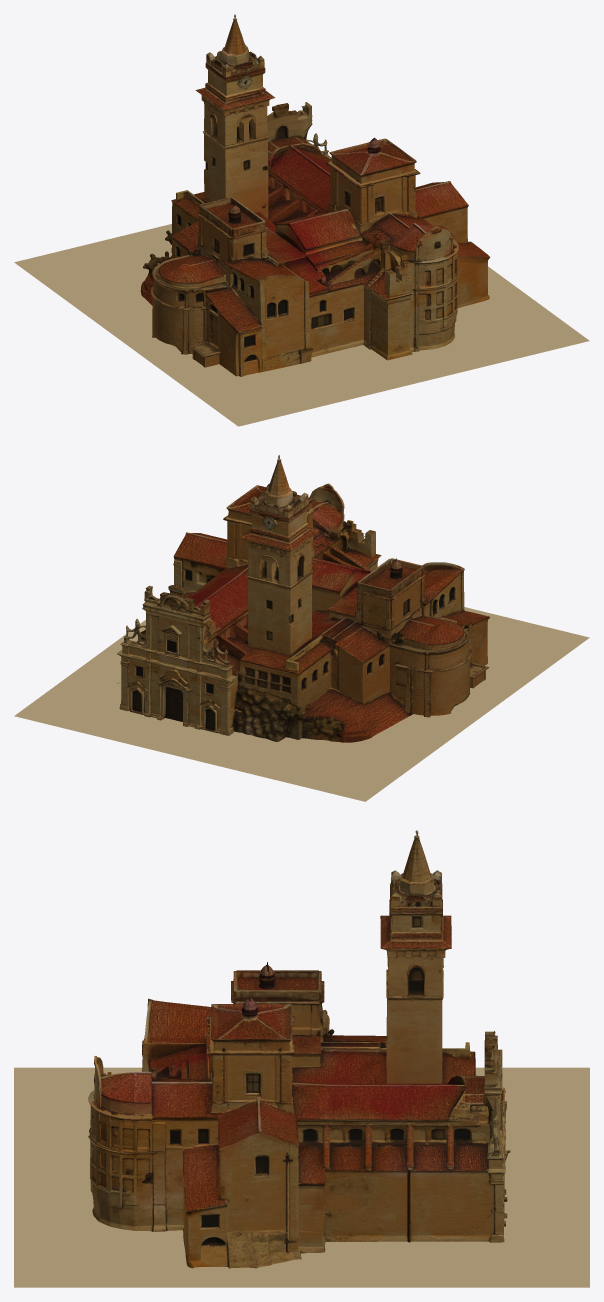
The model's file is duomosangiorgio1.glb.
3 renders of one model, top to bottom at view 1: azimuth 30°, elevation 25°; view 2: azimuth 150°, elevation 25°; view 3: azimuth 270°, elevation 25°, orthographic. The views are drawn at different scales.
Visible parts, largest first — view 1: tripo_node_6d670400-ee0f-4009-94c1-0537456685e0, Piano; view 2: tripo_node_6d670400-ee0f-4009-94c1-0537456685e0, Piano; view 3: tripo_node_6d670400-ee0f-4009-94c1-0537456685e0, Piano.
Boxes of the visible parts, x1,y1,x2,y2 form: tripo_node_6d670400-ee0f-4009-94c1-0537456685e0: (140,14,490,376); Piano: (14,224,589,426); tripo_node_6d670400-ee0f-4009-94c1-0537456685e0: (117,455,489,742); Piano: (14,607,589,801); tripo_node_6d670400-ee0f-4009-94c1-0537456685e0: (88,830,510,1268); Piano: (14,1067,589,1287).
Bounding box in the file's own units: 1.16 × 0.8386 × 1.29.
2 materials, 1 textured.
